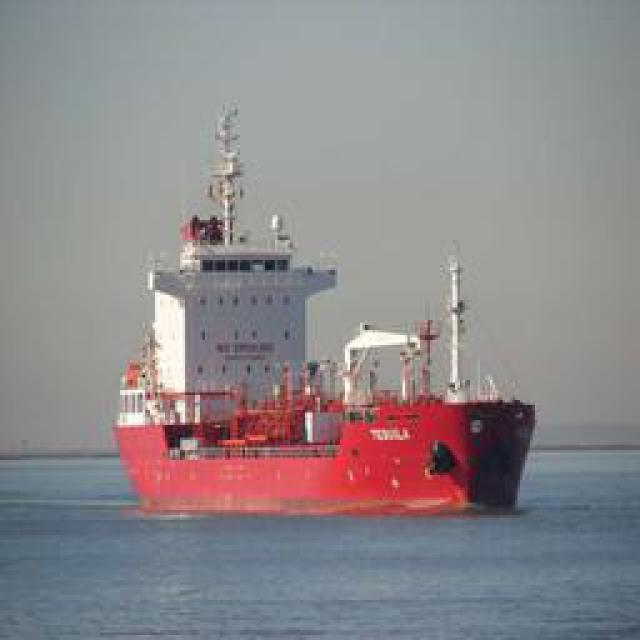Ship: (118, 225, 543, 513)
